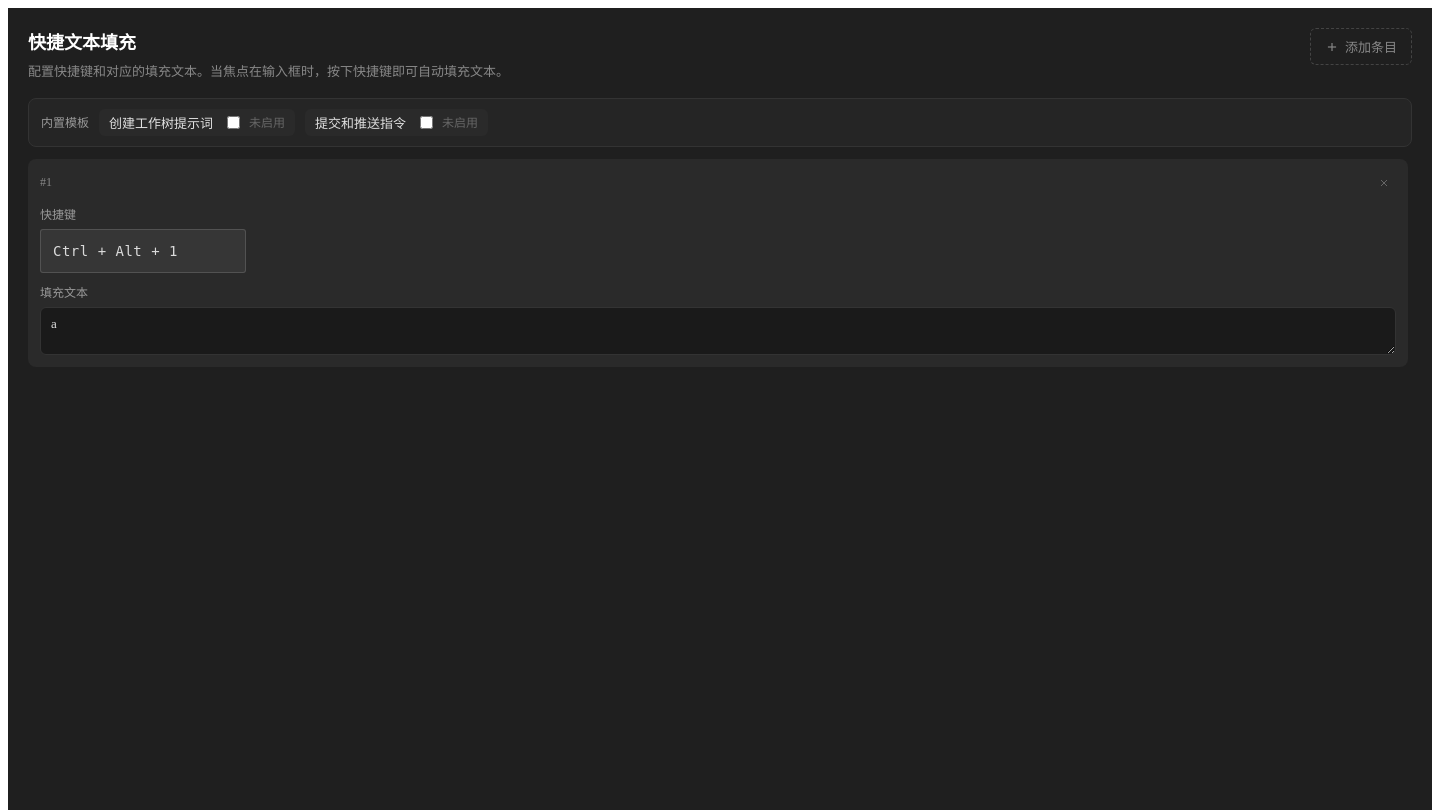
QuickFillView › 删除条目后该条目消失
Check: the text "Ctrl + Alt + 1" is shown, box [53,242,178,258]
What coordinates should you click on to do the following:
click the button named "删除"
I would click on:
 (1384, 182)
Its box is [1372,170,1396,194].
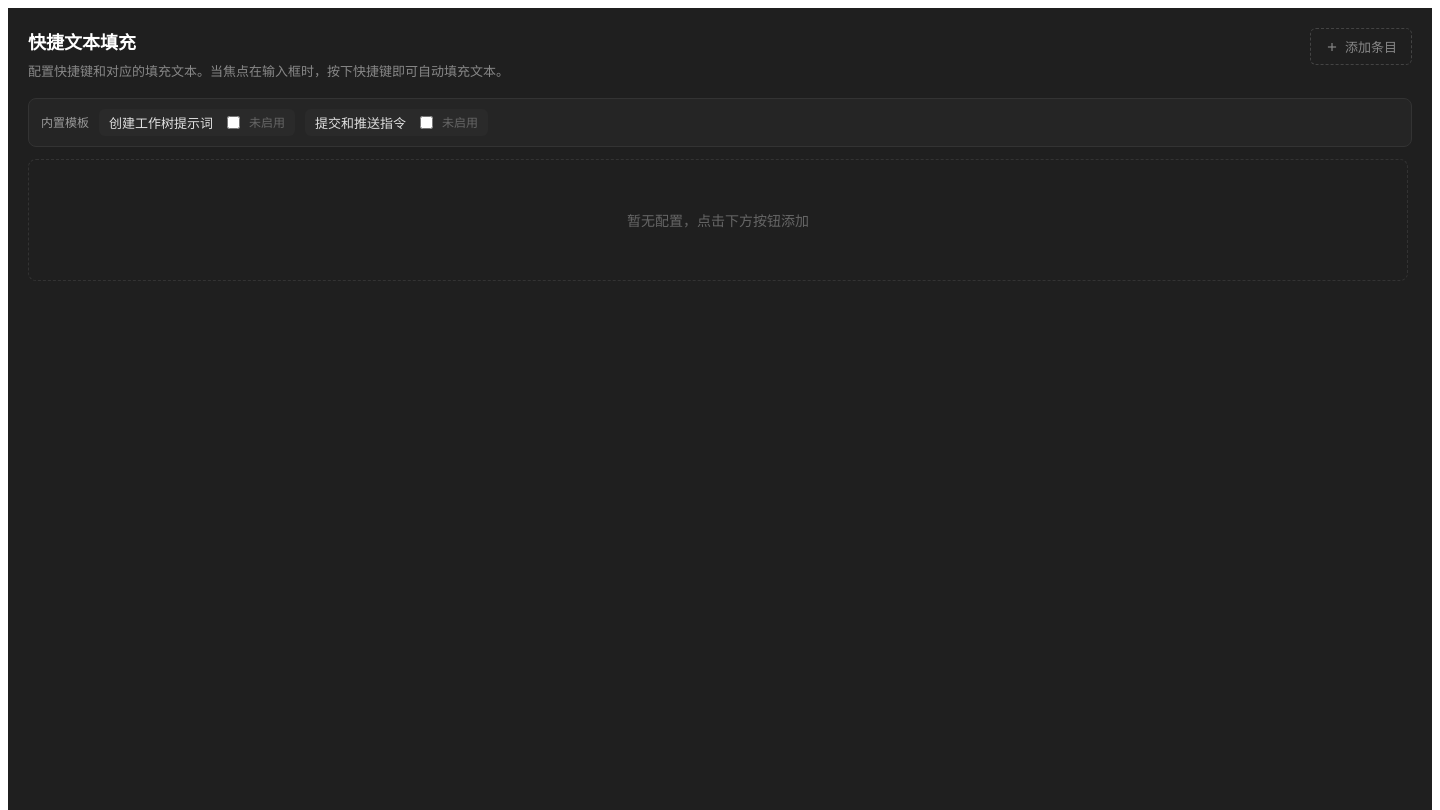
Check: the text "Ctrl + Alt + 1" is gone
